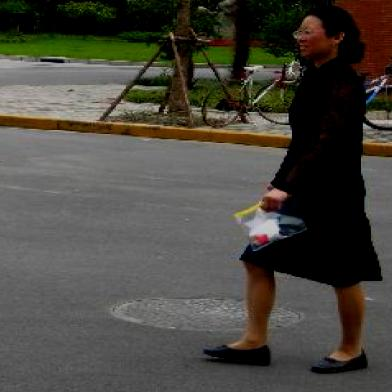ped: (208, 5, 384, 372)
